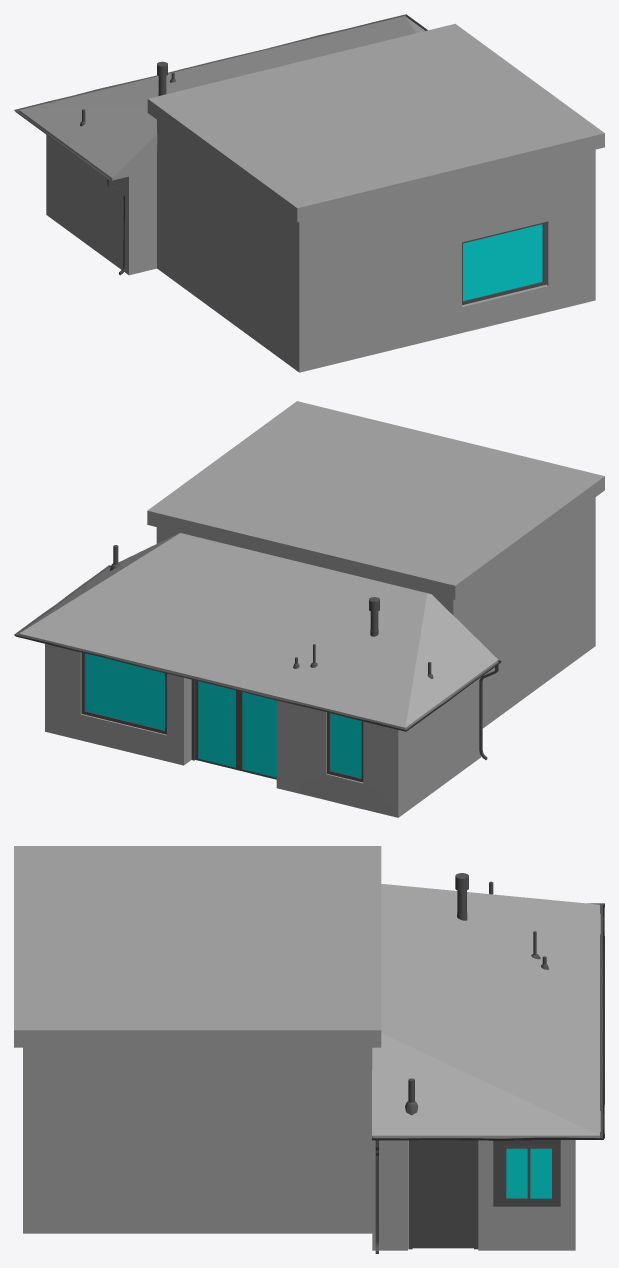
File: Gas Station V2.fbx
3 renders of one model, top to bottom at view 1: azimuth 30°, elevation 25°; view 2: azimuth 150°, elevation 25°; view 3: azimuth 270°, elevation 25°, orthographic. The views are drawn at different scales.
Parts seen in each view (by area): view 1: Building, SmallRoof, Back_Window_Glass, Gutters, Back_Window_Frame; view 2: Building, SmallRoof, Front_Doors, Large_Front_Window_Glass, Small_Front_Window_Glass, Gutters, Large_Front_Window_Frame, Small_Front_Window_Frame; view 3: Building, SmallRoof, Side_Door, Drivethru_Window, Gutters, Side_Door_Frame, polySurface3.
Boxes of the visible parts, box(x1,y1,x2,y2) form: Building: box(46, 23, 604, 372); SmallRoof: box(19, 16, 424, 180); Back_Window_Glass: box(463, 224, 542, 300); Gutters: box(14, 14, 427, 181); Back_Window_Frame: box(462, 222, 546, 305); Building: box(45, 401, 604, 817); SmallRoof: box(19, 533, 498, 729); Front_Doors: box(195, 680, 276, 779); Large_Front_Window_Glass: box(85, 653, 164, 730); Small_Front_Window_Glass: box(330, 713, 361, 778); Gutters: box(14, 565, 501, 731); Large_Front_Window_Frame: box(81, 653, 166, 734); Small_Front_Window_Frame: box(327, 712, 363, 782); Building: box(14, 846, 575, 1250); SmallRoof: box(372, 884, 599, 1138); Side_Door: box(412, 1142, 473, 1248); Drivethru_Window: box(493, 1140, 560, 1206); Gutters: box(372, 903, 604, 1140); Side_Door_Frame: box(408, 1140, 478, 1249); polySurface3: box(455, 873, 468, 920).
Size of the model in its own units: 381 by 156 by 404.
